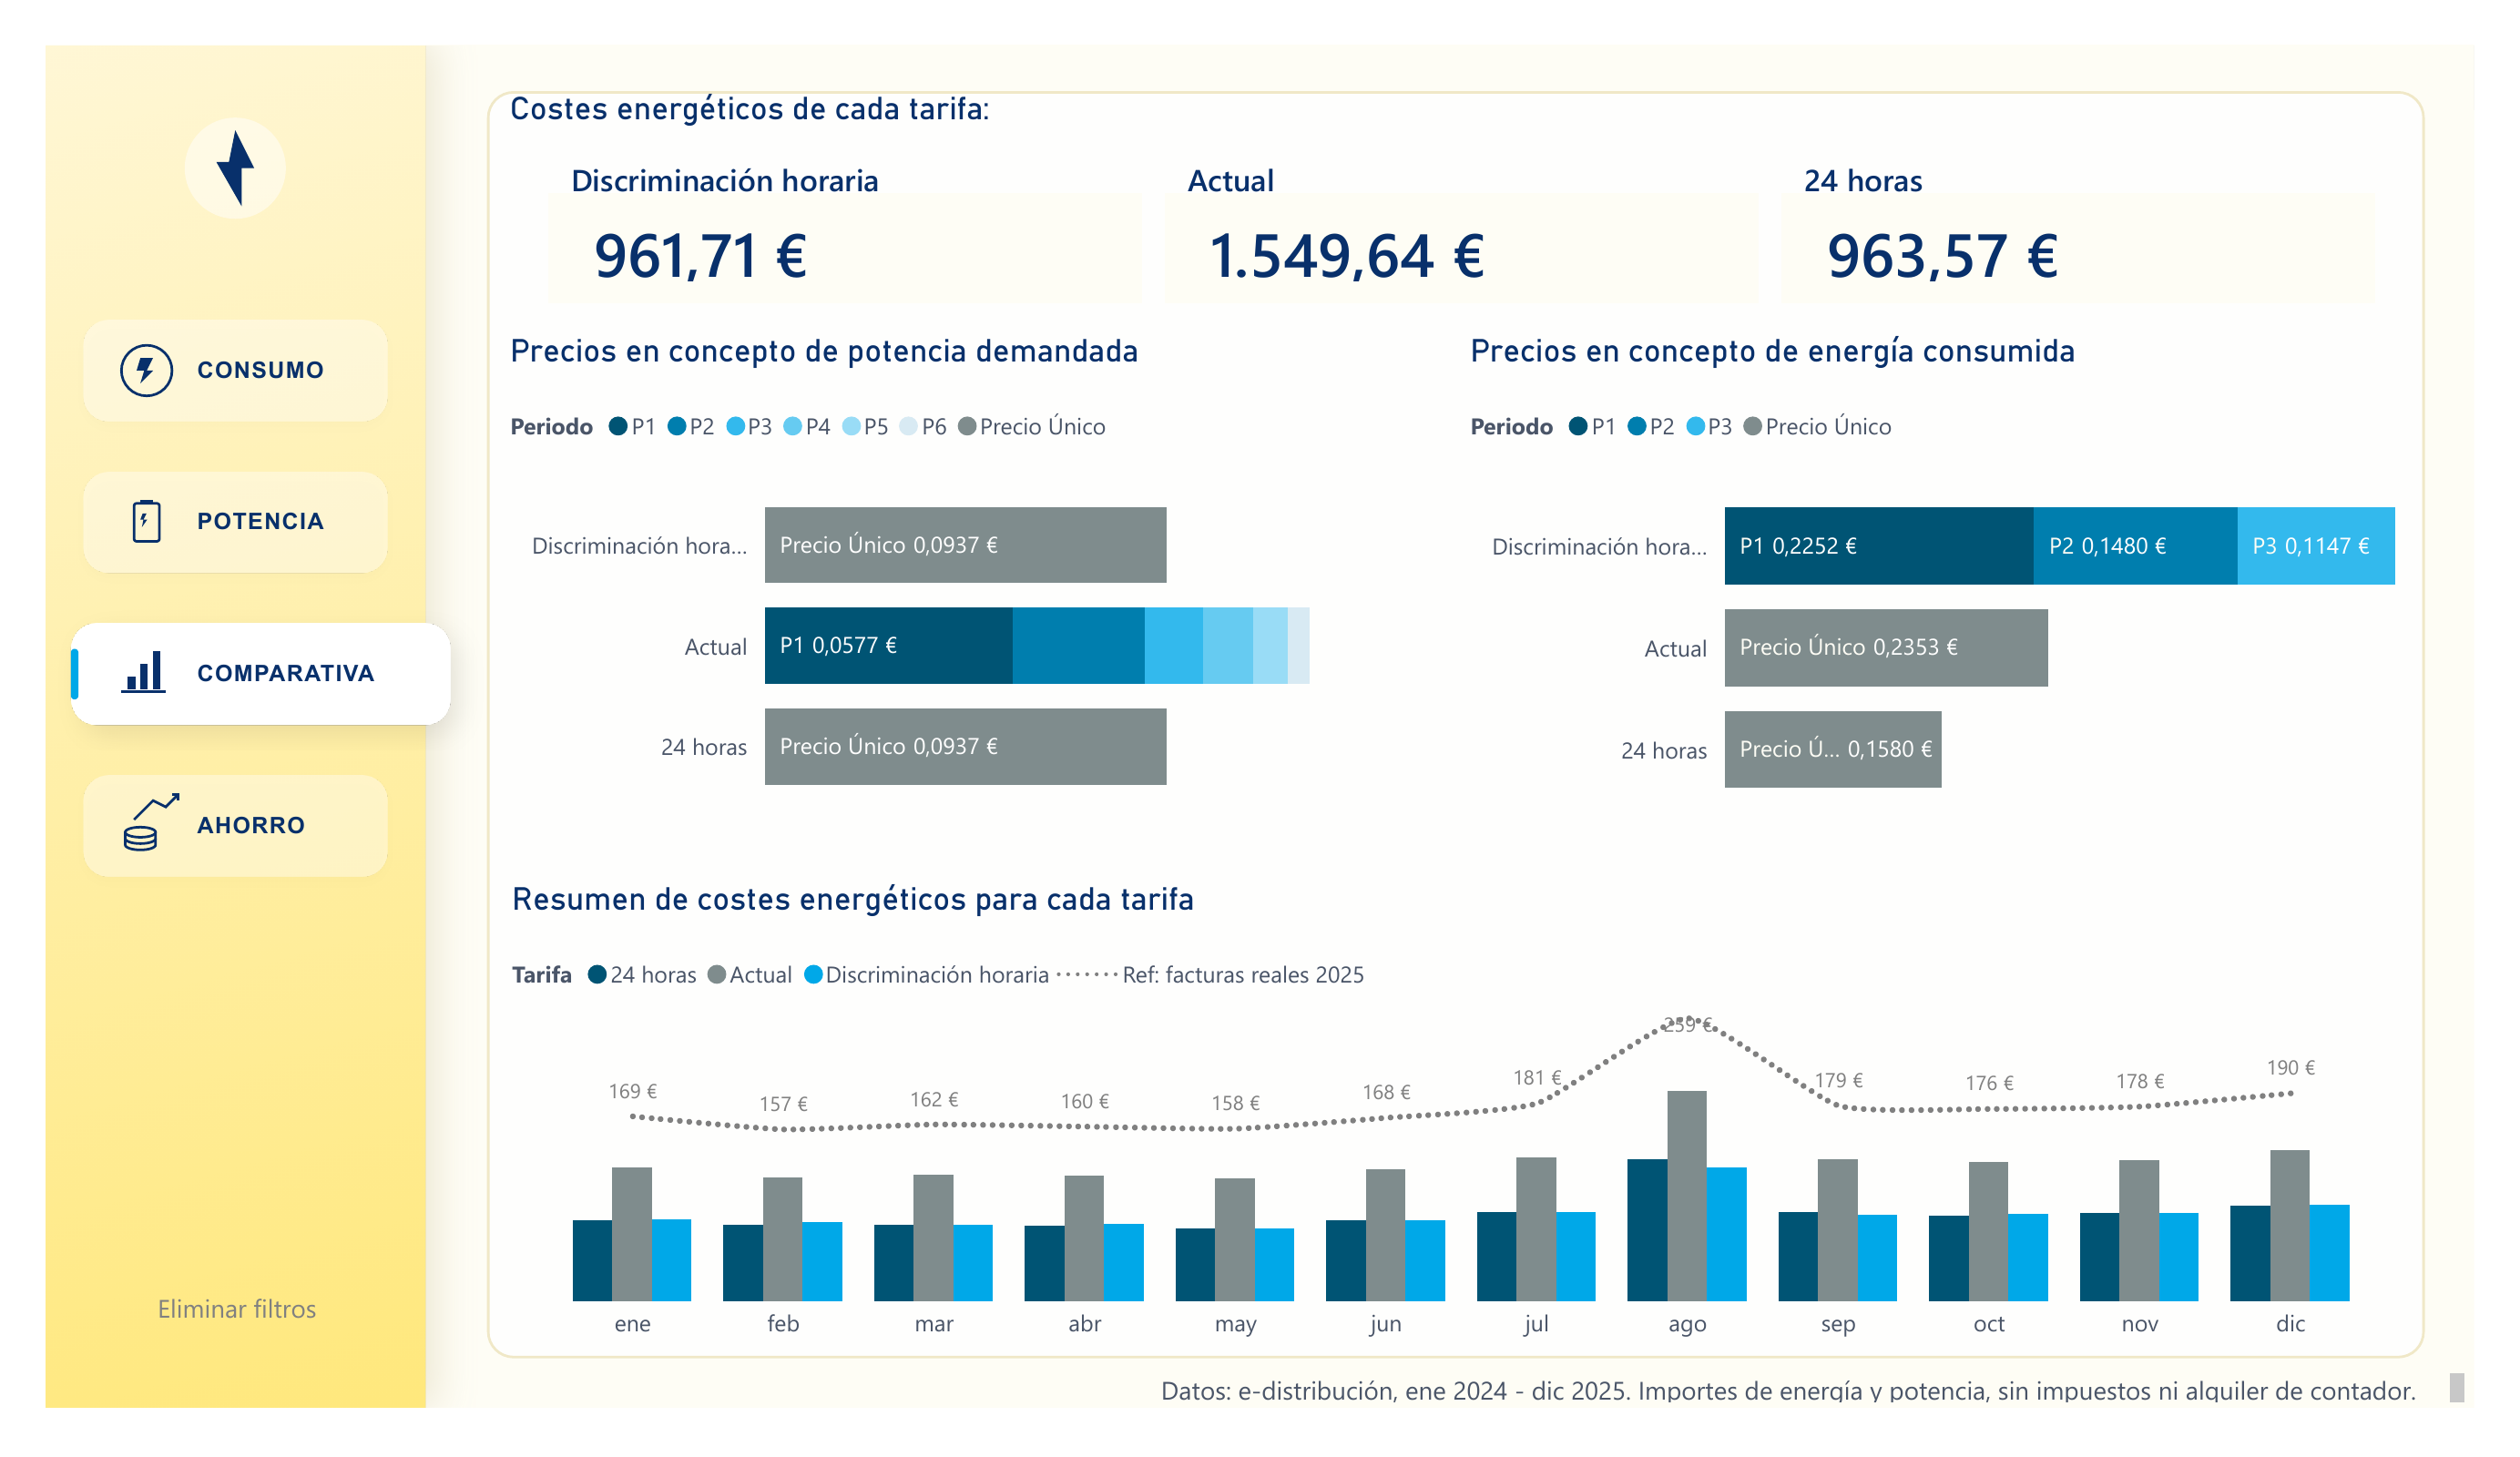

The dashboard page shown, as its layout file describes it:
{"tool":"powerbi","page":{"name":"Comparativa","canvas":[1280,720],"ordinal":2},"visuals":[{"type":"barChart","title":"Precios en concepto de potencia demandada","fields":{"Y":["Min(T_comparativa.€/kw/dia)"],"Category":["T_tarifas.Tarifa"],"Series":["T_comparativa.Leyenda Potencia"]},"box":[240,151.2,506.2,266.2],"z":0},{"type":"barChart","title":"Precios en concepto de energía consumida","fields":{"Category":["T_tarifas.Tarifa"],"Y":["Min(T_comparativa.€/Kwh)"],"Series":["T_comparativa.Leyenda Consumo"]},"box":[746.1,151.4,505.5,269],"z":1000},{"type":"lineClusteredColumnComboChart","title":"Resumen de costes energéticos para cada tarifa","fields":{"Y":["_Medidas.Subtotal Costes"],"Series":["T_tarifas.Tarifa"],"Category":["Calendario.AñoMes"],"Y2":["_Medidas.Facturas"]},"box":[241,439.8,1011,252.4],"z":2000},{"type":"cardVisual","title":"Costes energéticos de cada tarifa:","fields":{"Data":["_Medidas.Subtotal Costes"],"Rows":["T_tarifas.Tarifa"]},"box":[240,22.5,1012.5,118.8],"z":3000},{"type":"actionButton","box":[20.4,140.2,158.1,57.4],"z":4000},{"type":"actionButton","box":[20.4,225.7,158.1,49.7],"z":5000},{"type":"actionButton","box":[20.4,382.5,158.1,57.4],"z":7000},{"type":"textbox","box":[582.5,695,697.5,25],"z":8000},{"type":"actionButton","box":[1.2,640,200,50],"z":9000}]}

Visuals, with their boxes on the page's 1280x720 design canvas (x1, y1, x2, y2). These are canvas units, not pixel positions in the 2520x1457 screenshot, which may show the page scaled, cropped or inside an application window:
"Precios en concepto de potencia demandada" barChart: Rect(240, 151, 746, 417)
"Precios en concepto de energía consumida" barChart: Rect(746, 151, 1252, 420)
"Resumen de costes energéticos para cada tarifa" lineClusteredColumnComboChart: Rect(241, 440, 1252, 692)
"Costes energéticos de cada tarifa:" cardVisual: Rect(240, 22, 1252, 141)
actionButton: Rect(20, 140, 178, 198)
actionButton: Rect(20, 226, 178, 275)
actionButton: Rect(20, 382, 178, 440)
textbox: Rect(582, 695, 1280, 720)
actionButton: Rect(1, 640, 201, 690)
